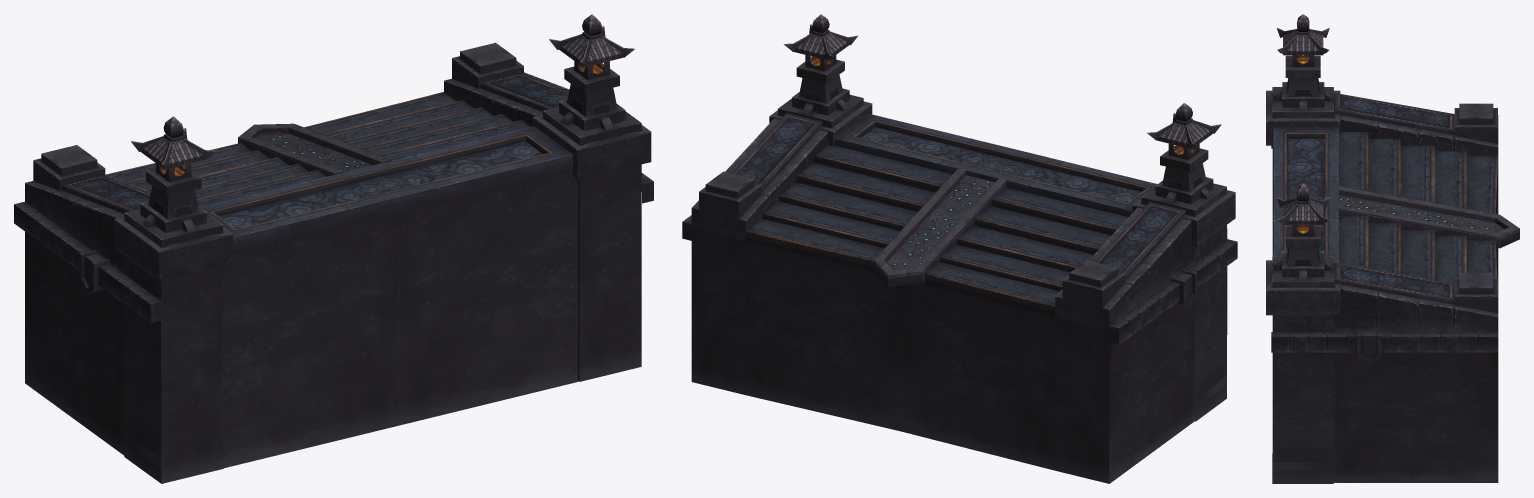
File: 2_BTT_DaHouTaiJie_01.FBX
3 views of the same model, side by side, from view 1: azimuth 30°, elevation 25°; view 2: azimuth 150°, elevation 25°; view 3: azimuth 270°, elevation 25° (orthographic). The views are drawn at different scales.
Visible parts, largest first — view 1: 2_BTT_DaHouTaiJie_01; view 2: 2_BTT_DaHouTaiJie_01; view 3: 2_BTT_DaHouTaiJie_01.
Part boxes in pixels (bbox=[...]): 2_BTT_DaHouTaiJie_01: bbox=[14, 14, 653, 483]; 2_BTT_DaHouTaiJie_01: bbox=[682, 14, 1237, 483]; 2_BTT_DaHouTaiJie_01: bbox=[1266, 14, 1519, 483].
Bounding box in the file's own units: 1923 × 1247 × 992.
